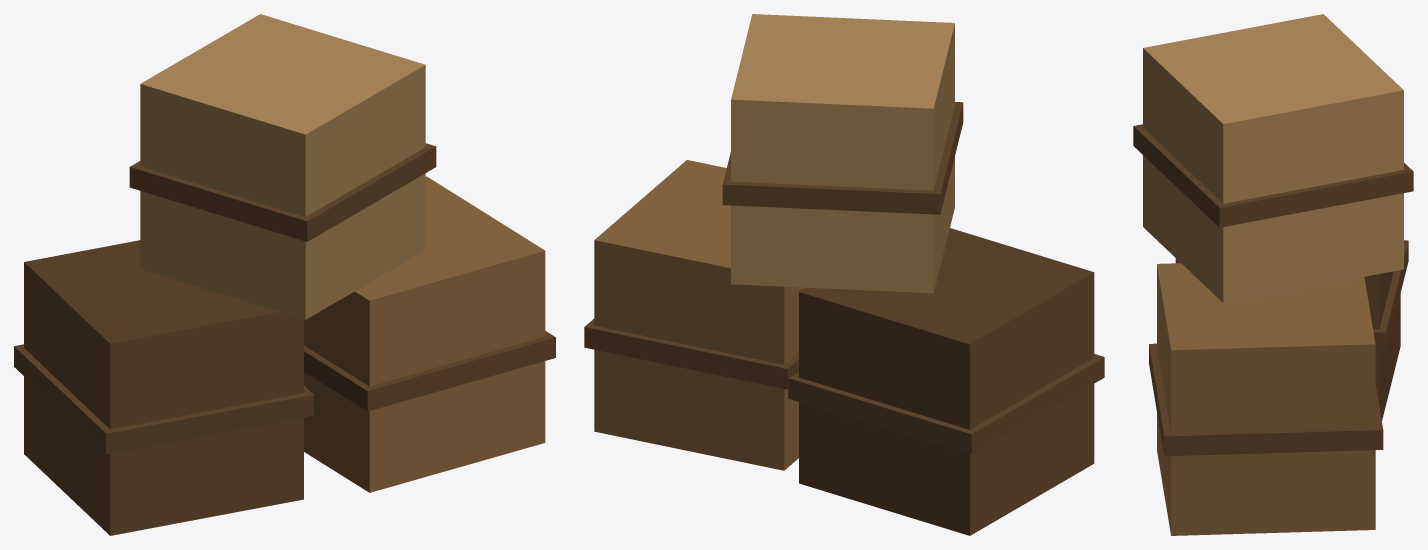
File: Scatter_CratesStack.fbx
3 renders of one model, left to right at view 1: azimuth 30°, elevation 25°; view 2: azimuth 150°, elevation 25°; view 3: azimuth 270°, elevation 25°, orthographic. The views are drawn at different scales.
Visible parts, largest first — view 1: CratesStack; view 2: CratesStack; view 3: CratesStack.
Part boxes in pixels (x1,y1,x2,y2): CratesStack: (14, 14, 555, 535); CratesStack: (584, 14, 1104, 535); CratesStack: (1133, 14, 1413, 535).
Size of the model in its own units: 6.65 by 5.55 by 3.83.
